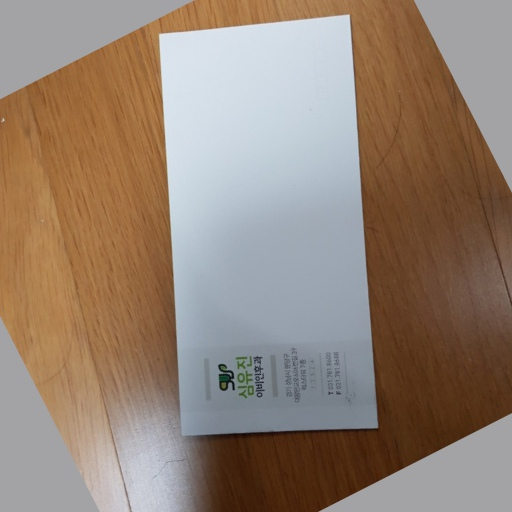Paper_2: (153, 13, 395, 442)
